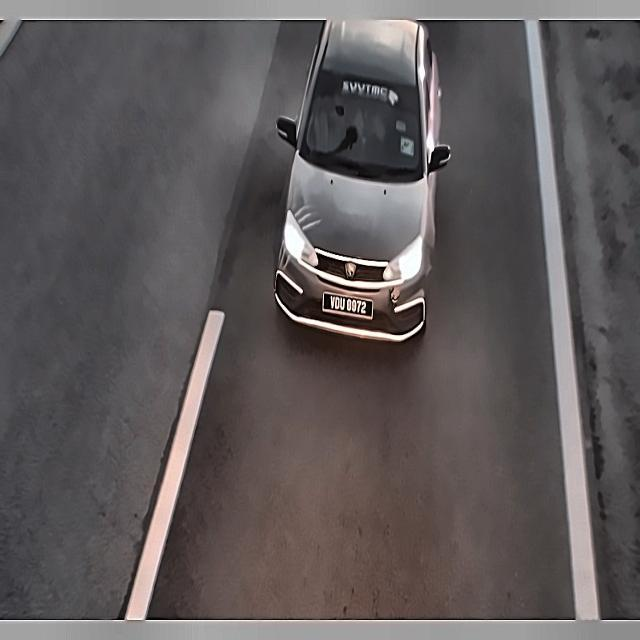car: (320, 288, 378, 329)
